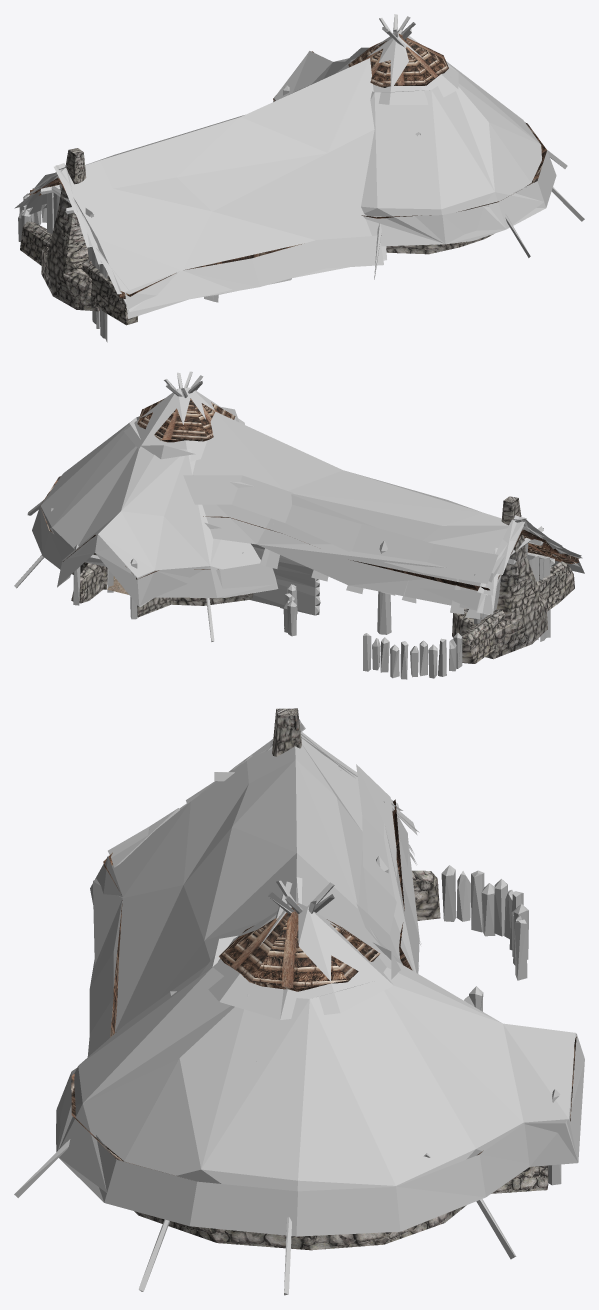
Rendered from Smith_1_LOD3.fbx.
3 renders of one model, top to bottom at view 1: azimuth 30°, elevation 25°; view 2: azimuth 150°, elevation 25°; view 3: azimuth 270°, elevation 25°, orthographic. The views are drawn at different scales.
Visible parts, largest first — view 1: Alpha, Stone, Roof, Wood; view 2: Alpha, Wood, Stone, Roof; view 3: Alpha, Wood, Roof, Stone.
Boxes of the visible parts, bbox=[...] form: Alpha: bbox=[14, 29, 556, 318]; Stone: bbox=[20, 148, 493, 325]; Roof: bbox=[29, 33, 546, 298]; Wood: bbox=[18, 14, 584, 342]; Alpha: bbox=[32, 387, 584, 619]; Wood: bbox=[14, 371, 554, 679]; Stone: bbox=[71, 496, 574, 663]; Roof: bbox=[40, 398, 578, 590]; Alpha: bbox=[56, 719, 584, 1236]; Wood: bbox=[14, 772, 561, 1295]; Roof: bbox=[71, 799, 576, 1172]; Stone: bbox=[134, 708, 548, 1250].
Size of the model in its own units: 3327 by 2058 by 1309.
